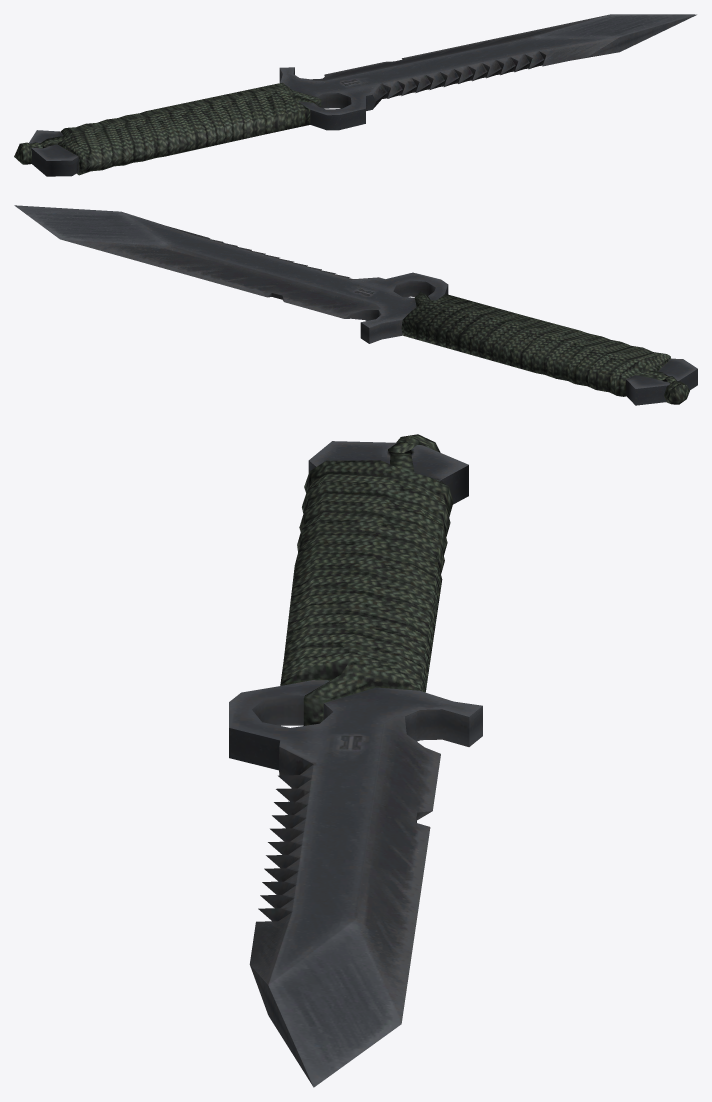
File: t6_wpn_knife_base_view_LOD0.obj
The picture shows the model from 3 angles, top to bottom: view 1: azimuth 30°, elevation 25°; view 2: azimuth 150°, elevation 25°; view 3: azimuth 270°, elevation 25°; orthographic projection. The views are drawn at different scales.
Parts seen in each view (by area): view 1: mtl_t6_wpn_knife_base, mtl_t6_wpn_knife_base_camo2; view 2: mtl_t6_wpn_knife_base, mtl_t6_wpn_knife_base_camo2; view 3: mtl_t6_wpn_knife_base, mtl_t6_wpn_knife_base_camo2.
Part boxes in pixels (box(x1,y1,x2,y2)): mtl_t6_wpn_knife_base: box(29, 14, 696, 176); mtl_t6_wpn_knife_base_camo2: box(14, 82, 321, 175); mtl_t6_wpn_knife_base: box(14, 205, 697, 405); mtl_t6_wpn_knife_base_camo2: box(401, 291, 689, 404); mtl_t6_wpn_knife_base: box(229, 441, 482, 1087); mtl_t6_wpn_knife_base_camo2: box(280, 434, 453, 725).
Bounding box in the file's own units: 40.86 × 1.96 × 6.86.
